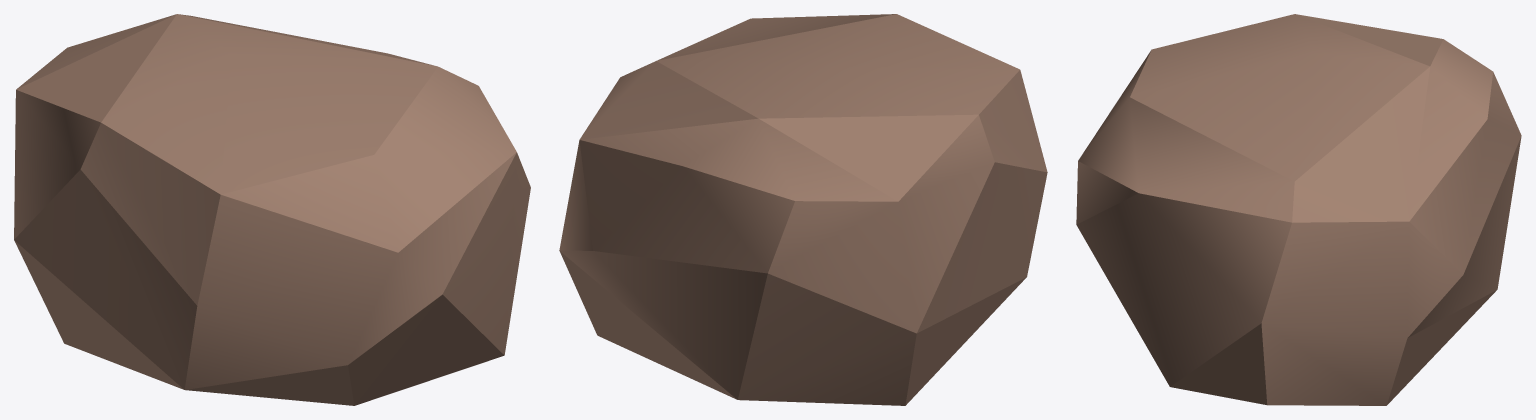
Rendered from a_z1_rock_s.fbx.
3 views of the same model, side by side, from view 1: azimuth 30°, elevation 25°; view 2: azimuth 150°, elevation 25°; view 3: azimuth 270°, elevation 25° (orthographic). The views are drawn at different scales.
Visible parts, largest first — view 1: a_z1_rock_s; view 2: a_z1_rock_s; view 3: a_z1_rock_s.
Part boxes in pixels (<box>): a_z1_rock_s: <box>14,14,530,405</box>; a_z1_rock_s: <box>559,14,1047,405</box>; a_z1_rock_s: <box>1076,14,1521,405</box>.
Bounding box in the file's own units: 66.41 × 44.48 × 67.83.
